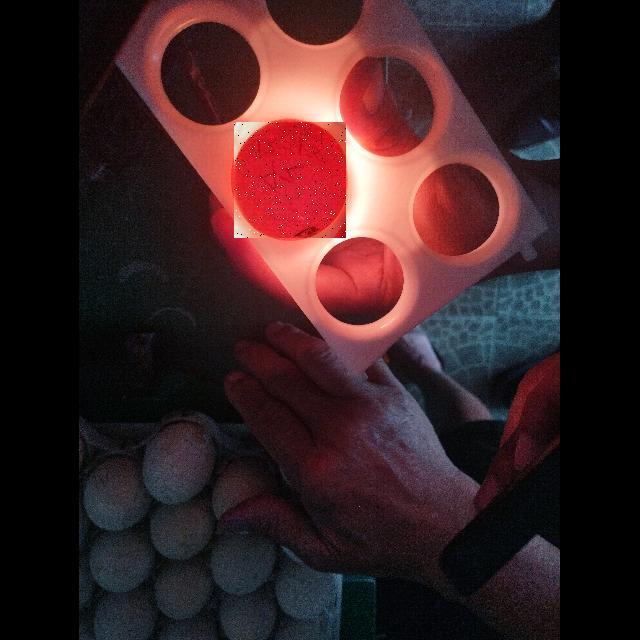A - Good: (234, 122, 346, 238)
